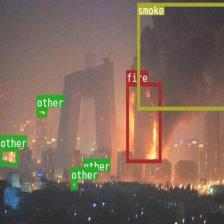fire: (126, 82, 161, 162)
smoke: (136, 2, 224, 109)
